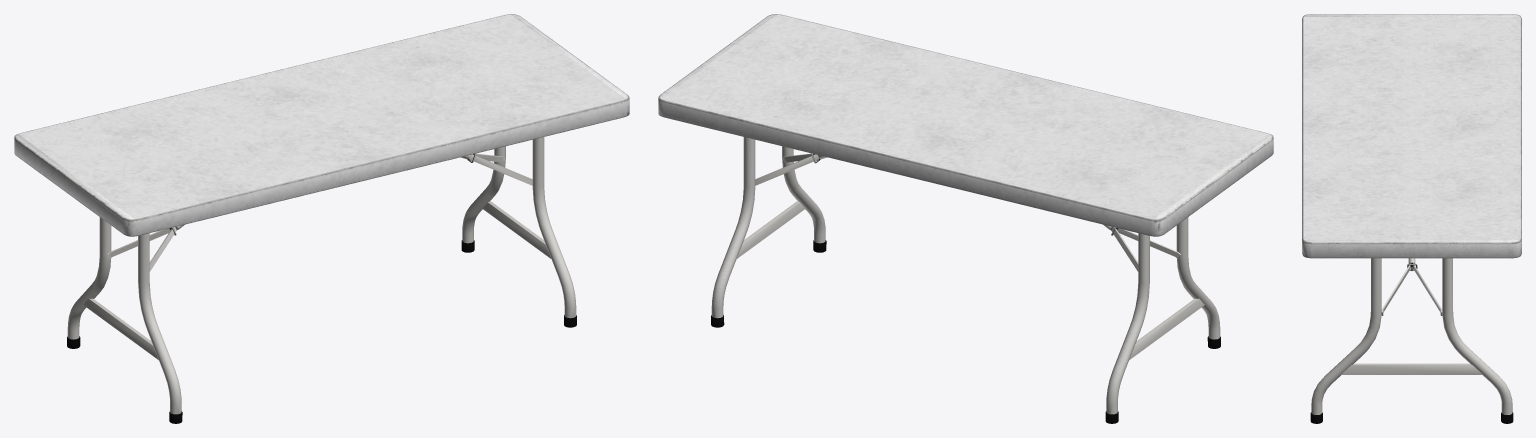
The model's file is table-5.glb.
3 renders of one model, left to right at view 1: azimuth 30°, elevation 25°; view 2: azimuth 150°, elevation 25°; view 3: azimuth 270°, elevation 25°, orthographic. The views are drawn at different scales.
Visible parts, largest first — view 1: Folding_Table_; view 2: Folding_Table_; view 3: Folding_Table_.
Part boxes in pixels (x1,y1,x2,y2): Folding_Table_: (14, 14, 629, 423); Folding_Table_: (658, 14, 1273, 423); Folding_Table_: (1302, 14, 1521, 423).
Bounding box in the file's own units: 9.13 × 3.78 × 3.7.
Materials: 1 (1 with a texture image).
